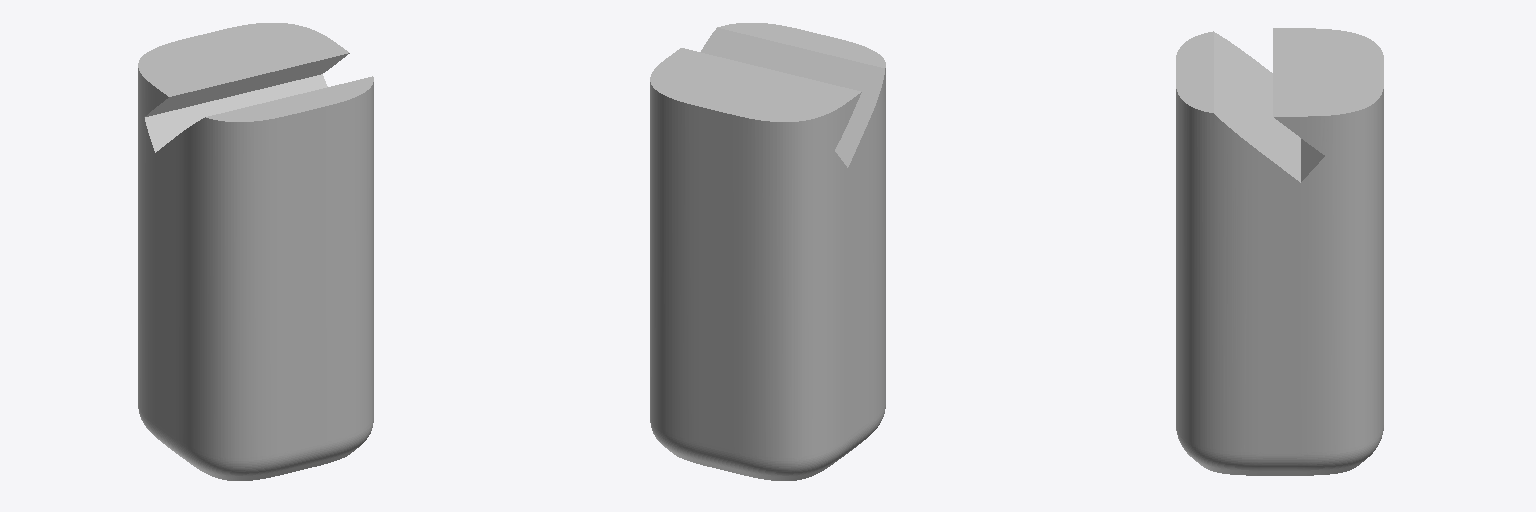
File: 04_bishop.obj
3 renders of one model, left to right at view 1: azimuth 30°, elevation 25°; view 2: azimuth 150°, elevation 25°; view 3: azimuth 270°, elevation 25°, orthographic.
Parts seen in each view (by area): view 1: Bishop_-_x2pcs_by_colour_-_001; view 2: Bishop_-_x2pcs_by_colour_-_001; view 3: Bishop_-_x2pcs_by_colour_-_001.
Boxes of the visible parts, x1,y1,x2,y2 form: Bishop_-_x2pcs_by_colour_-_001: [138, 23, 373, 480]; Bishop_-_x2pcs_by_colour_-_001: [650, 23, 885, 480]; Bishop_-_x2pcs_by_colour_-_001: [1176, 28, 1383, 475].
Bounding box in the file's own units: 16.5 × 32 × 16.5.